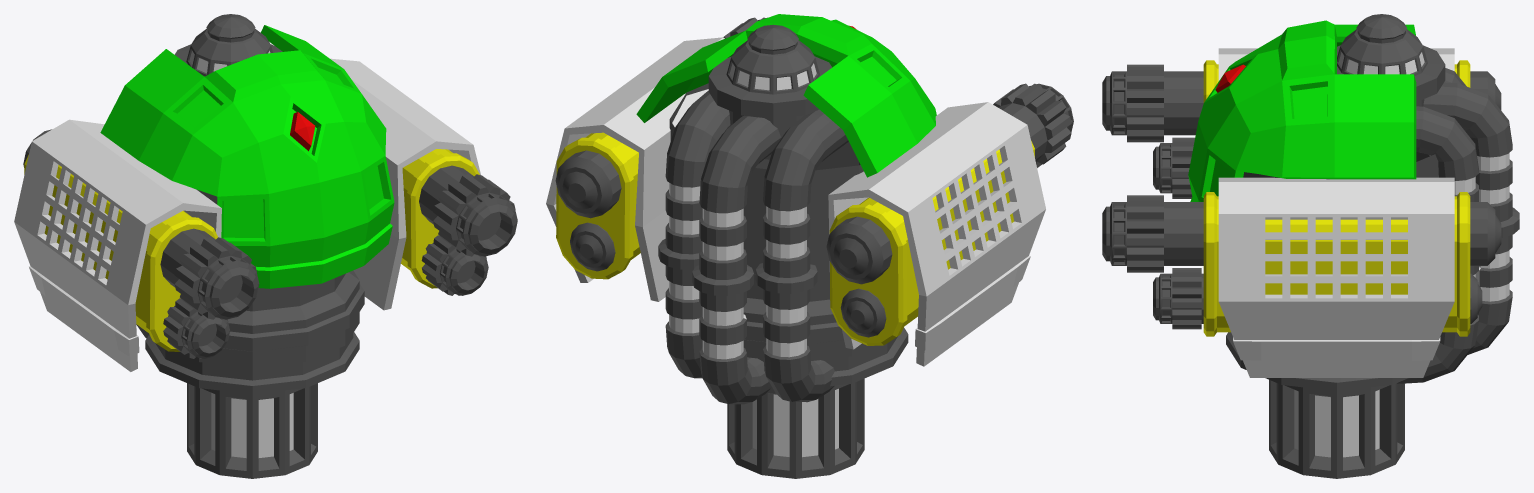
File: tower2_2.fbx
3 views of the same model, side by side, from view 1: azimuth 30°, elevation 25°; view 2: azimuth 150°, elevation 25°; view 3: azimuth 270°, elevation 25° (orthographic). The views are drawn at different scales.
Parts seen in each view (by area): view 1: polySurface77; view 2: polySurface77; view 3: polySurface77.
Boxes of the visible parts, x1=… form: polySurface77: x1=14, y1=14, x2=517, y2=478; polySurface77: x1=546, y1=14, x2=1073, y2=478; polySurface77: x1=1102, y1=14, x2=1519, y2=478.
Size of the model in its own units: 0.682 by 0.7507 by 0.6558.
